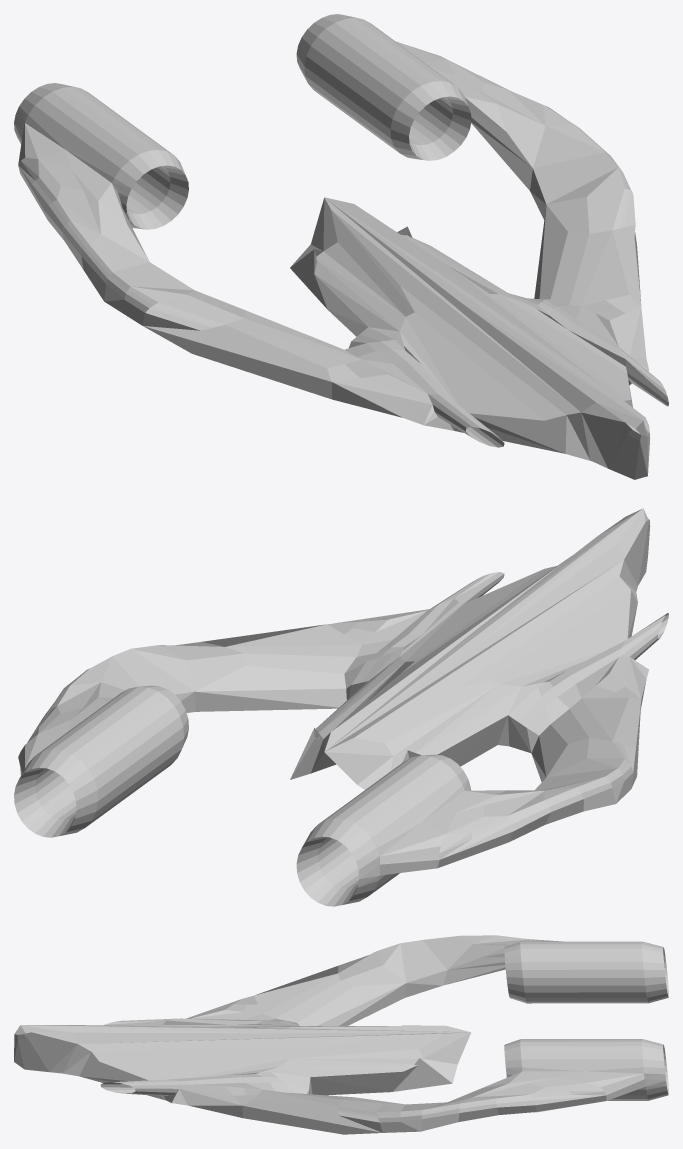
File: fighter_01.glb
3 renders of one model, top to bottom at view 1: azimuth 30°, elevation 25°; view 2: azimuth 150°, elevation 25°; view 3: azimuth 270°, elevation 25°, orthographic. The views are drawn at different scales.
Parts seen in each view (by area): view 1: Cube; view 2: Cube; view 3: Cube.
Part boxes in pixels (x1,y1,x2,y2): Cube: (14, 14, 668, 479); Cube: (14, 508, 668, 906); Cube: (14, 935, 668, 1134).
Size of the model in its own units: 2.2 by 0.5155 by 3.45.
1 material, 1 textured.
